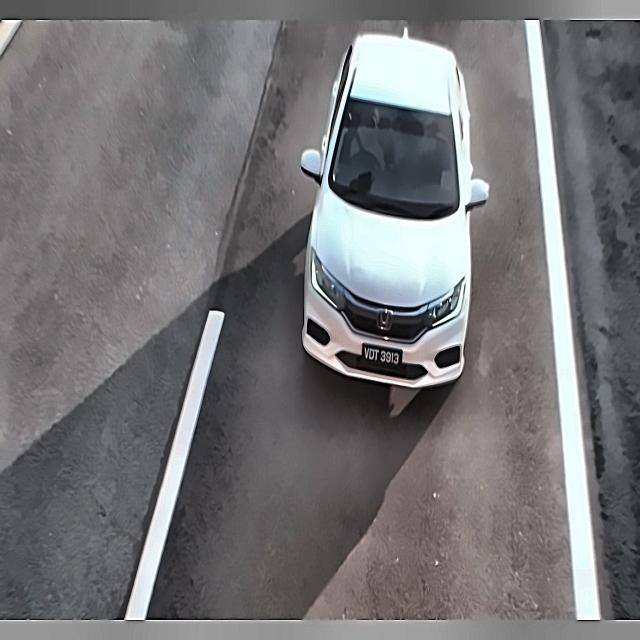car: (354, 335, 407, 371)
